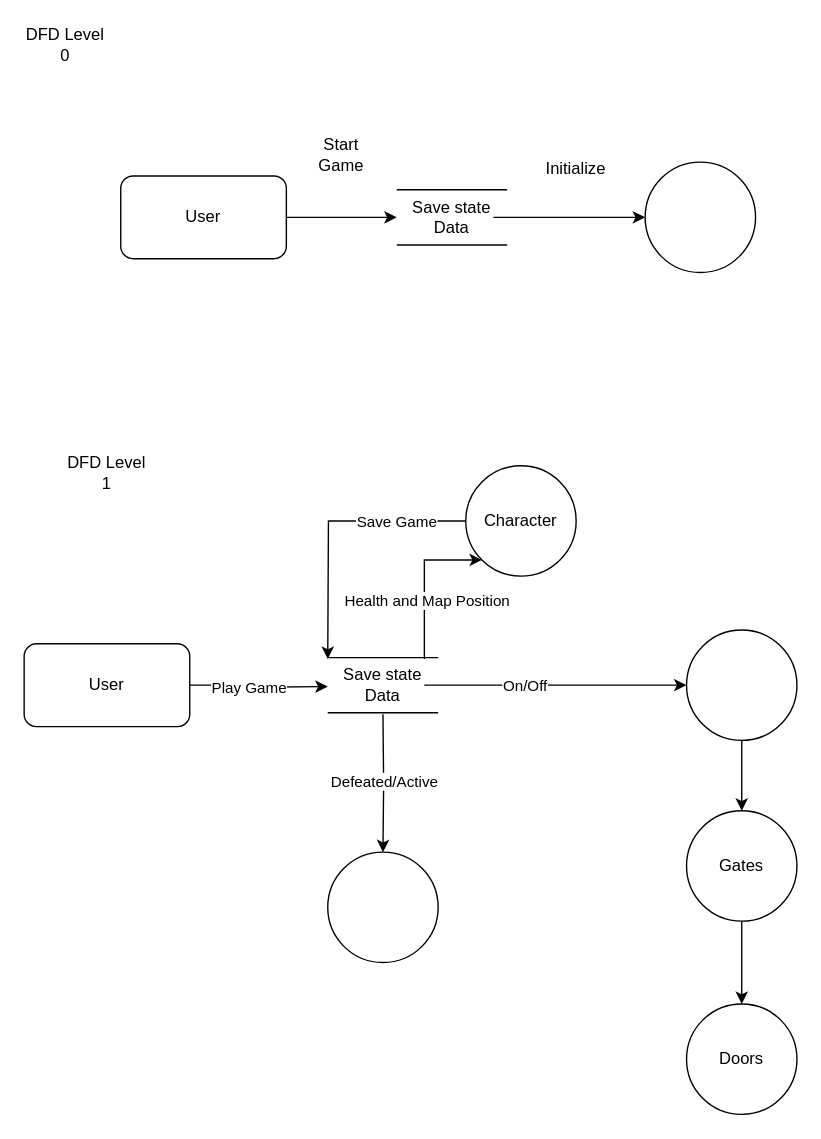
Image size: 821x1139. Some labels were removed from this diagram. Each missing label, with the centre of its shape:
Buttons: the point at 741,684
Enemies: the point at 382,907
Scene/Level: the point at 700,217
